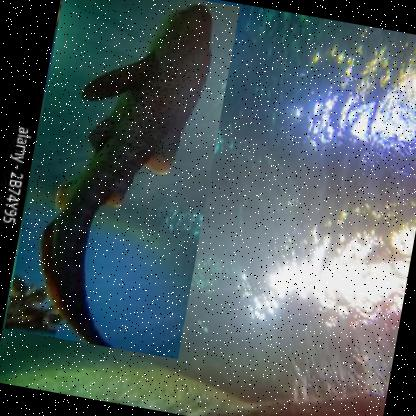zebra_shark: (3, 0, 241, 360)
